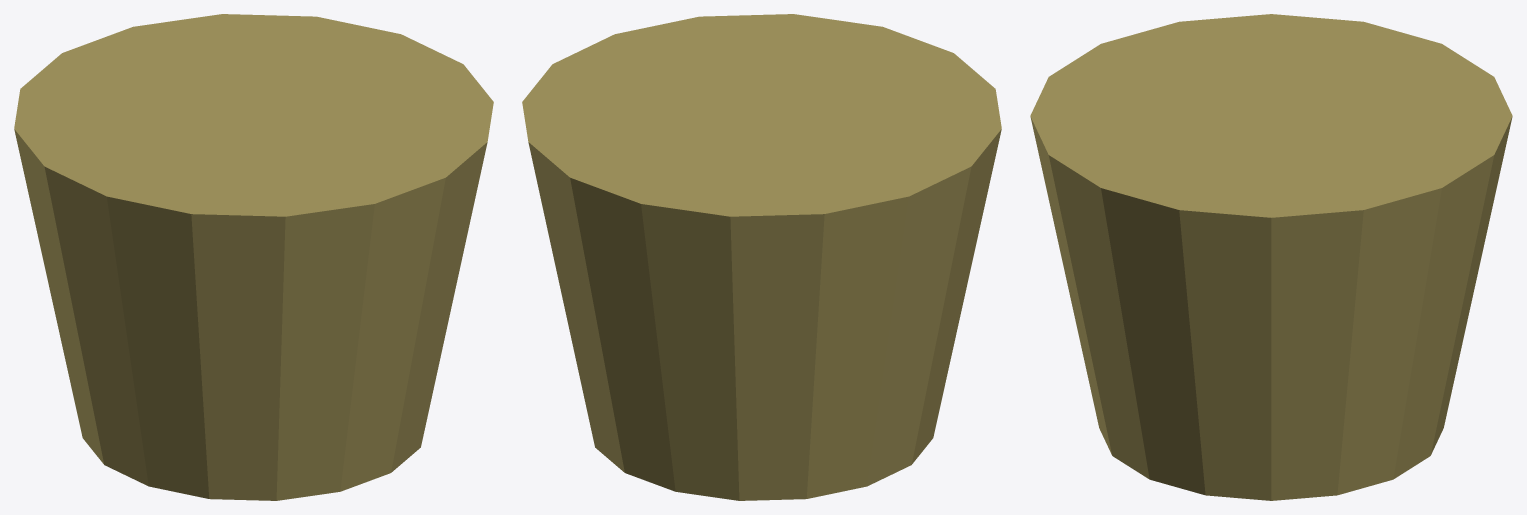
File: prop_basket_2.glb
3 views of the same model, side by side, from view 1: azimuth 30°, elevation 25°; view 2: azimuth 150°, elevation 25°; view 3: azimuth 270°, elevation 25° (orthographic).
Parts seen in each view (by area): view 1: PROP_Basket_2; view 2: PROP_Basket_2; view 3: PROP_Basket_2.
Part boxes in pixels (box(x1,y1,x2,y2)): PROP_Basket_2: box(14, 14, 493, 500); PROP_Basket_2: box(522, 14, 1001, 500); PROP_Basket_2: box(1030, 14, 1512, 500).
Bounding box in the file's own units: 0.56 × 0.4 × 0.56.
